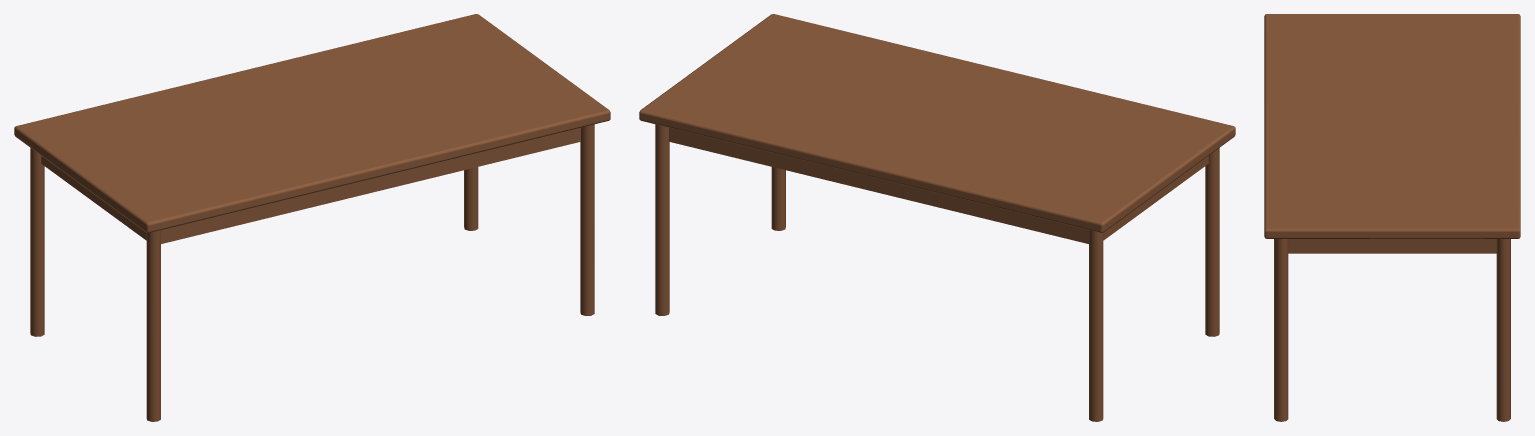
3 views of the same model, side by side, from view 1: azimuth 30°, elevation 25°; view 2: azimuth 150°, elevation 25°; view 3: azimuth 270°, elevation 25° (orthographic). The views are drawn at different scales.
Visible parts, largest first — view 1: top, apron, leg-3, leg-4, leg-1, leg-2; view 2: top, apron, leg-1, leg-2, leg-3, leg-4; view 3: top, apron, leg-2, leg-4.
Part boxes in pixels (bbox=[...]): top: bbox=[14, 14, 610, 232]; apron: bbox=[41, 127, 580, 243]; leg-3: bbox=[146, 230, 160, 421]; leg-4: bbox=[580, 124, 594, 315]; leg-1: bbox=[30, 148, 44, 336]; leg-2: bbox=[464, 167, 478, 230]; top: bbox=[639, 14, 1235, 232]; apron: bbox=[669, 127, 1208, 243]; leg-1: bbox=[1089, 230, 1103, 421]; leg-2: bbox=[655, 124, 669, 315]; leg-3: bbox=[1205, 148, 1219, 336]; leg-4: bbox=[771, 167, 785, 230]; top: bbox=[1264, 14, 1520, 238]; apron: bbox=[1288, 239, 1496, 253]; leg-2: bbox=[1496, 239, 1510, 421]; leg-4: bbox=[1274, 239, 1288, 421].
Bounding box in the file's own units: 1.8 × 0.76 × 0.9.
